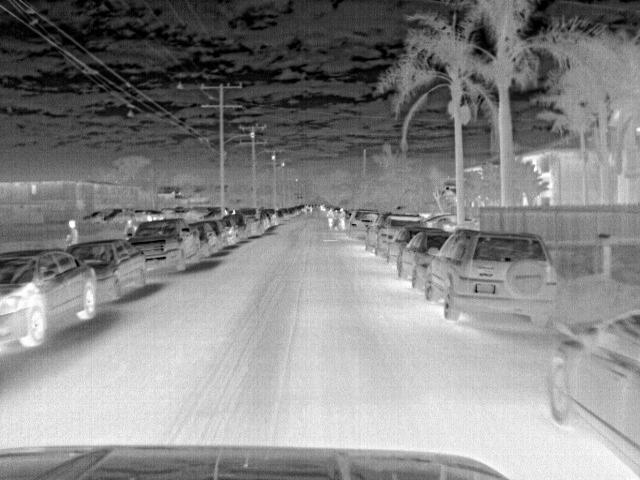car: (541, 304, 639, 476), (424, 225, 561, 326), (1, 248, 101, 359), (65, 242, 158, 296), (126, 219, 201, 269), (398, 227, 453, 282), (376, 212, 427, 258), (388, 224, 432, 267), (345, 208, 383, 238), (186, 223, 220, 256), (232, 206, 267, 236), (203, 221, 229, 251), (365, 213, 384, 254), (264, 209, 281, 226)
person: (64, 218, 81, 248), (324, 206, 337, 234)
